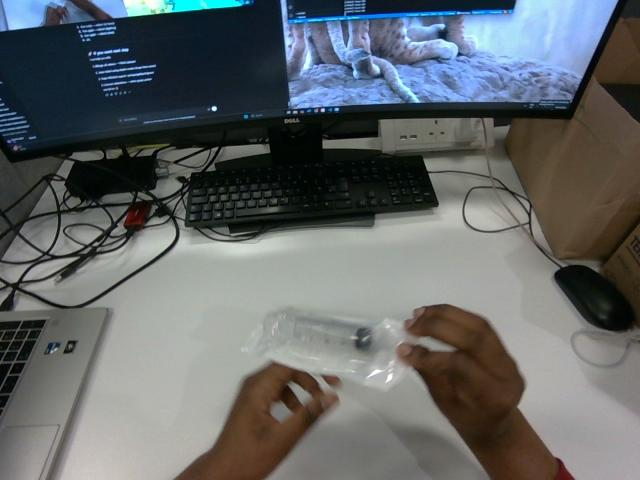syringe: (243, 308, 409, 389)
